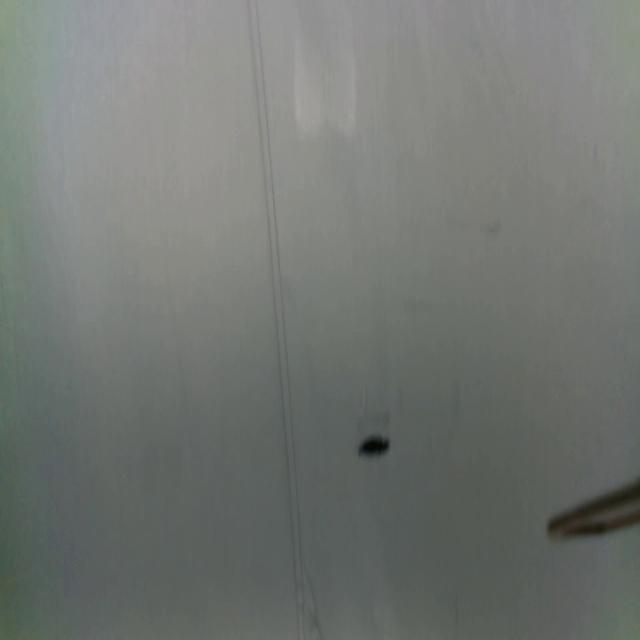crease: (245, 0, 306, 638)
hole: (356, 430, 391, 461)
